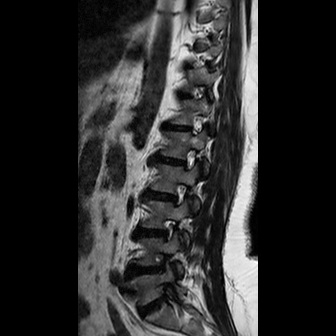LFS0: (163, 174, 194, 210), (173, 142, 205, 174)
LFS1: (153, 210, 182, 248)
LFS3: (147, 247, 178, 280)
